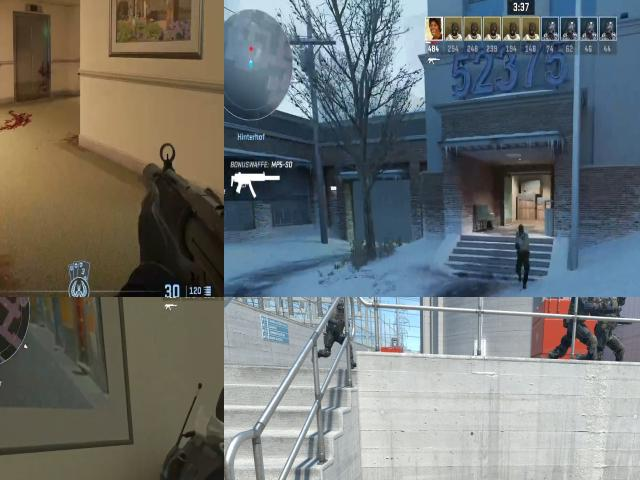CT: (560, 297, 600, 362), (593, 297, 627, 359), (322, 297, 353, 358)
CT-Head: (205, 372, 224, 472), (335, 297, 346, 314), (614, 297, 627, 305)
T: (510, 231, 530, 268)
T-Head: (517, 221, 526, 238)
